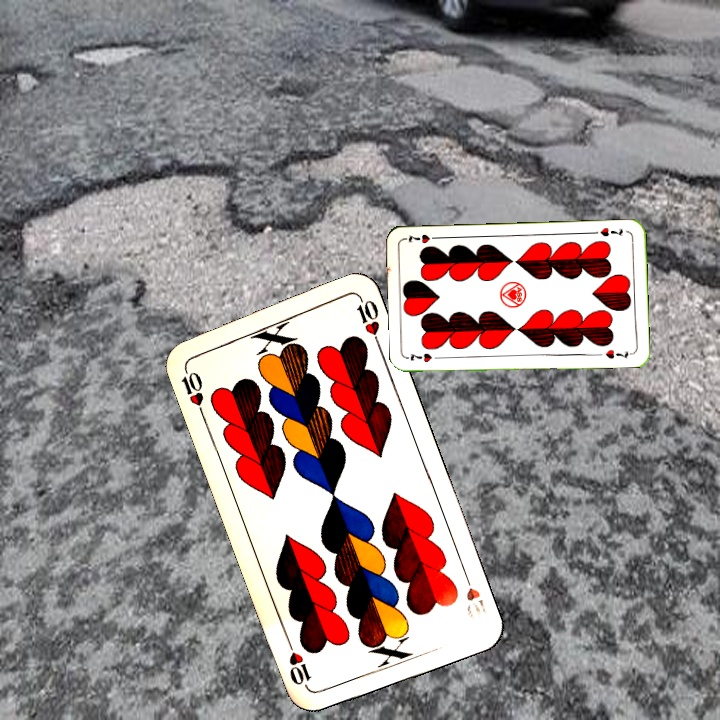H10: (177, 362, 207, 419), (459, 567, 489, 623)
H7: (404, 349, 445, 365), (596, 223, 626, 239)
